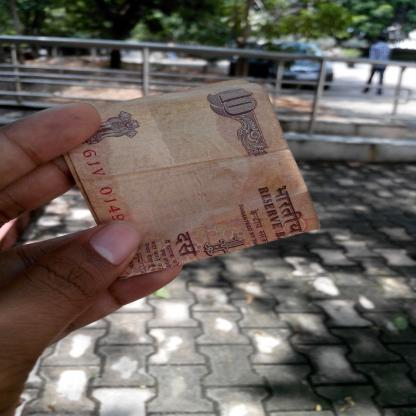Old10Front: (62, 78, 324, 281)
